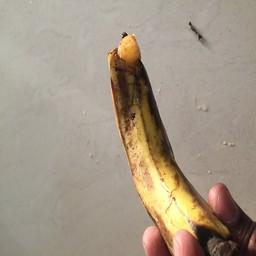Bad_banana: (102, 27, 231, 256)
